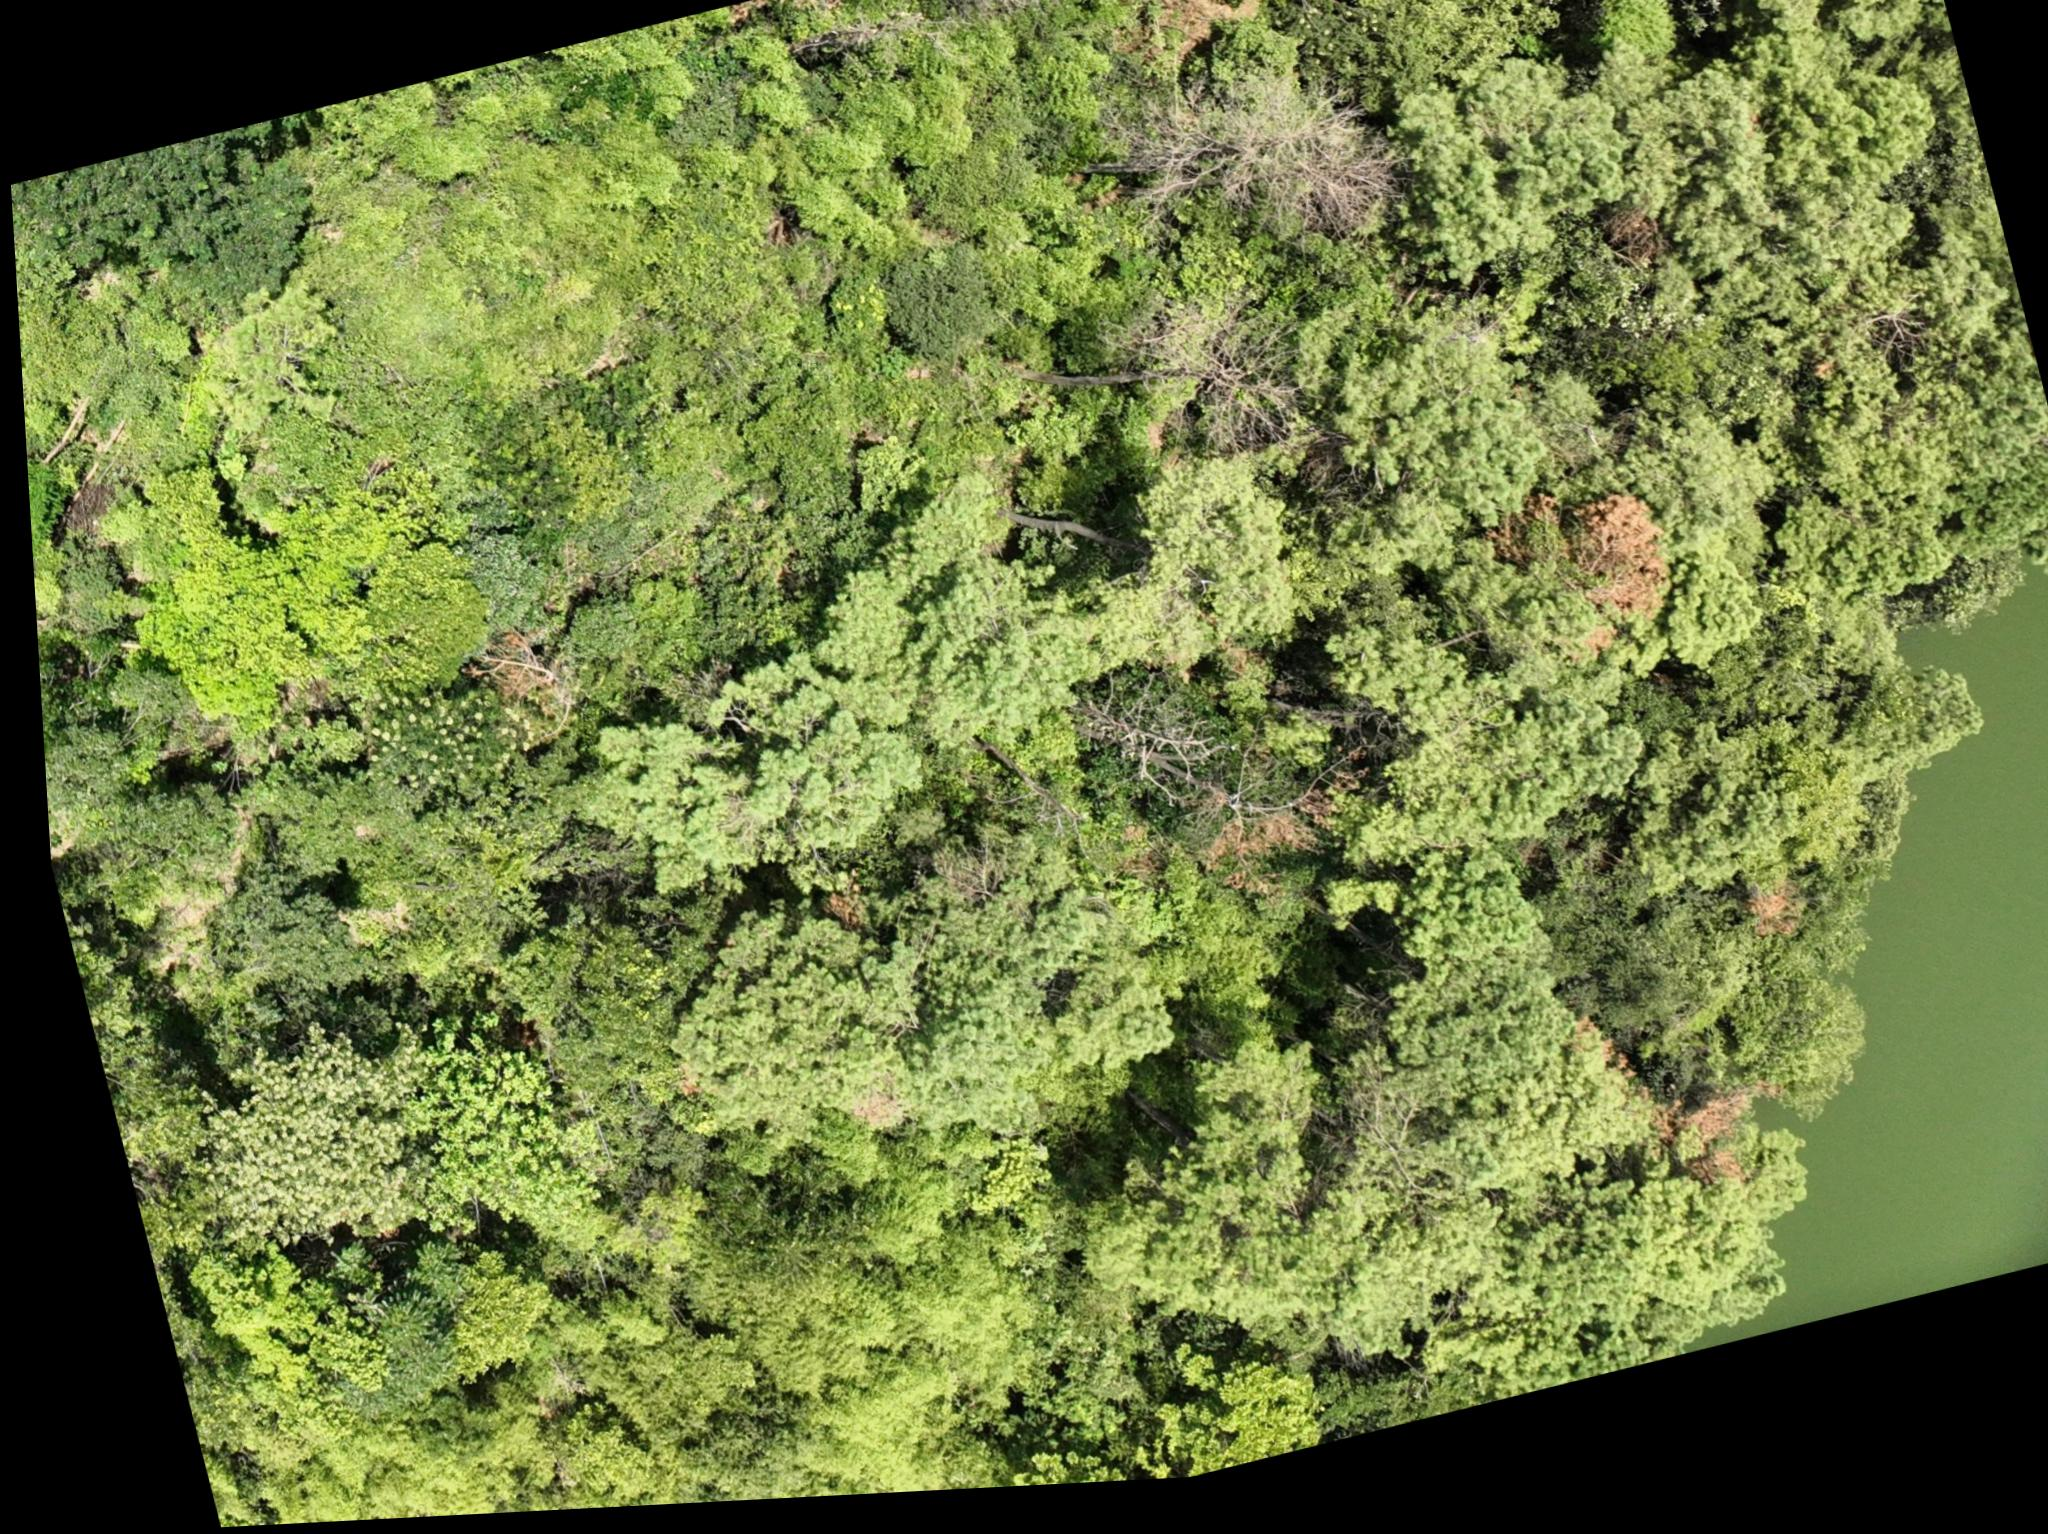dead: (1133, 327, 1307, 490), (1236, 98, 1405, 256), (1105, 108, 1228, 224), (956, 0, 1092, 32)
heavy: (1163, 748, 1368, 920), (1552, 493, 1685, 656), (1647, 1084, 1772, 1207), (461, 628, 564, 717), (1589, 211, 1669, 293), (1731, 899, 1801, 968)
